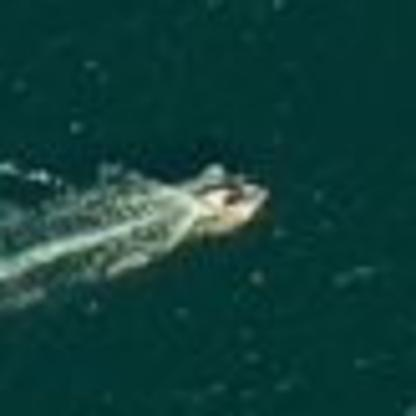ship: (183, 166, 272, 240)
